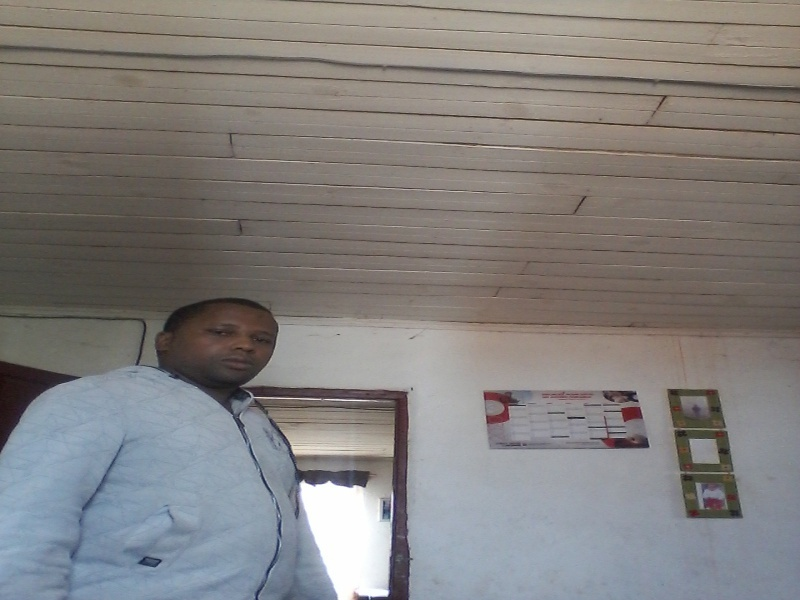TsisyArotava: (186, 298, 284, 395)
